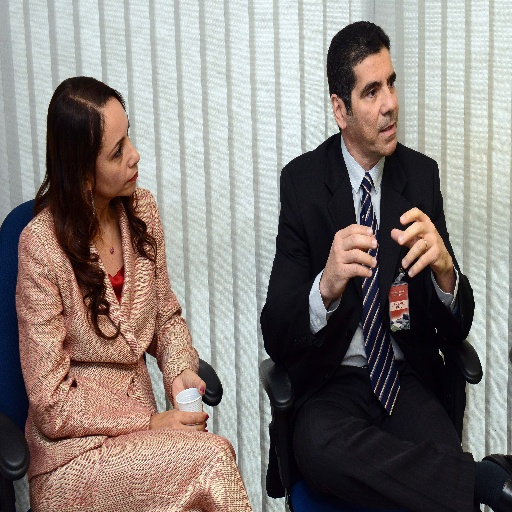hand: (389, 183, 450, 278), (322, 221, 377, 301), (170, 367, 206, 411), (150, 407, 208, 429)
